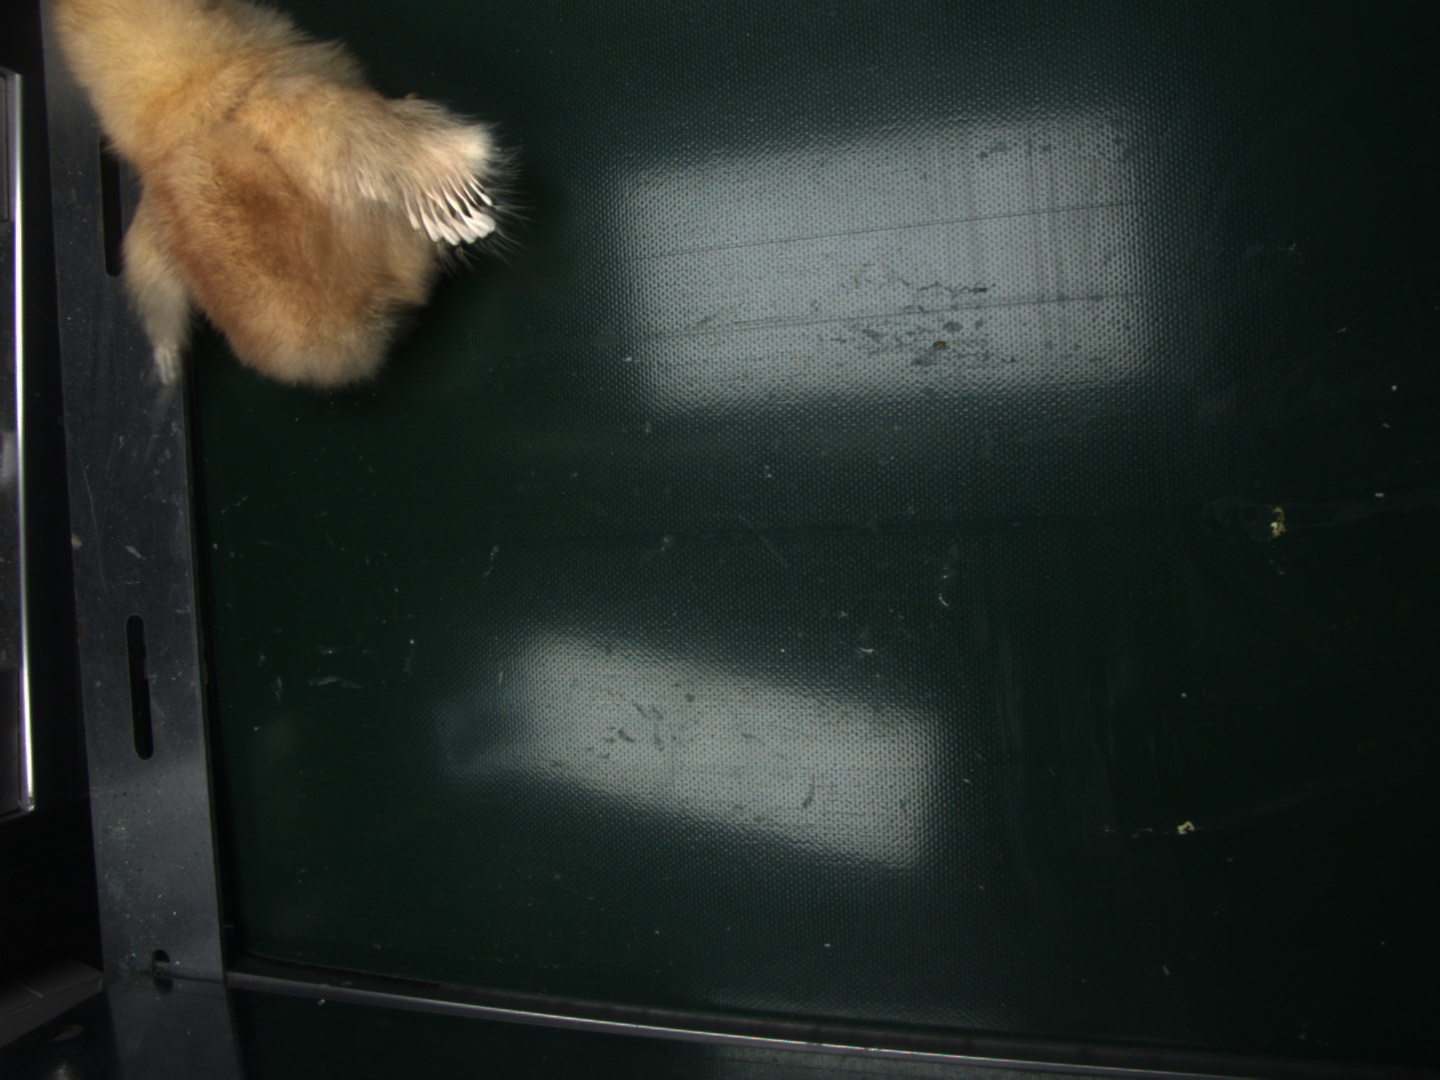female: (410, 169, 494, 234)
